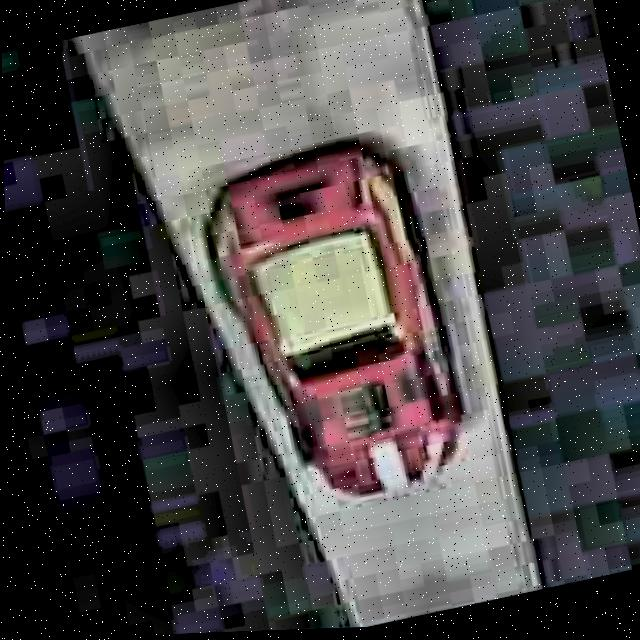car: (189, 121, 487, 534)
